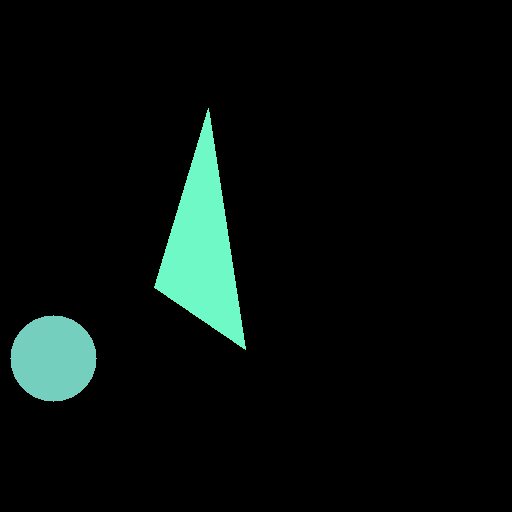circle: (10, 315, 96, 401)
triangle: (154, 108, 245, 349)
